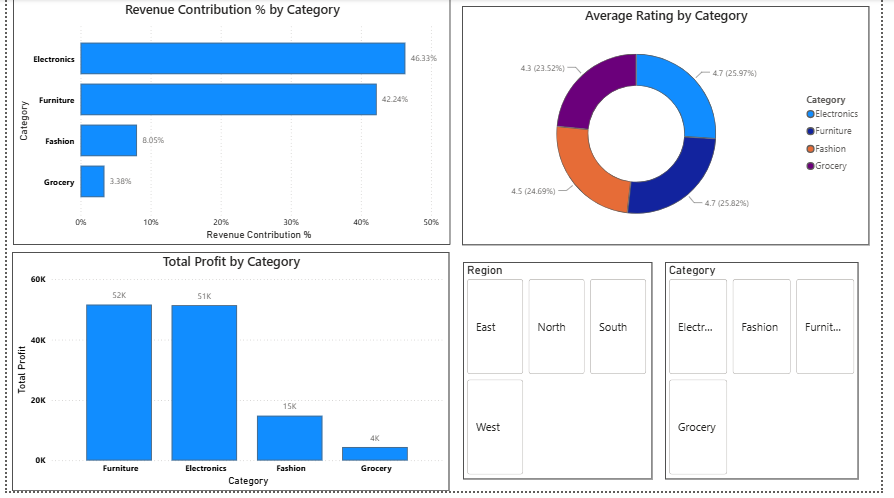

The page's visual inventory and layout, read from the dashboard file:
{"tool":"powerbi","page":{"name":"Dashboard 2","canvas":[1280,720],"ordinal":3},"visuals":[{"type":"clusteredBarChart","fields":{"Category":["Retail Sales Data.Category"],"Y":["Measures Table.Revenue Contribution %"]},"box":[8.3,0,640,360],"z":0},{"type":"columnChart","fields":{"Category":["Retail Sales Data.Category"],"Y":["Measures Table.Total Profit"]},"box":[8,370,640,350],"z":1000},{"type":"donutChart","fields":{"Category":["Retail Sales Data.Category"],"Y":["Measures Table.Average Rating"]},"box":[666,10,596,350],"z":2000},{"type":"advancedSlicerVisual","fields":{"Values":["Retail Sales Data.Region"]},"box":[666.7,385,276.7,318.3],"z":3000},{"type":"advancedSlicerVisual","fields":{"Values":["Retail Sales Data.Category"]},"box":[963.3,385,283.3,318.3],"z":4000}]}

Visuals, with their boxes in screenshot pixels (x1, y1, x2, y2), scaled from the page's 1280x720 canvas onto the 894x498 screenshot:
clusteredBarChart - Retail Sales Data.Category x Measures Table.Revenue Contribution %: 6:0:453:249
columnChart - Retail Sales Data.Category x Measures Table.Total Profit: 6:256:453:497
donutChart - Retail Sales Data.Category x Measures Table.Average Rating: 465:7:881:249
advancedSlicerVisual - Retail Sales Data.Region: 466:266:659:486
advancedSlicerVisual - Retail Sales Data.Category: 673:266:871:486
